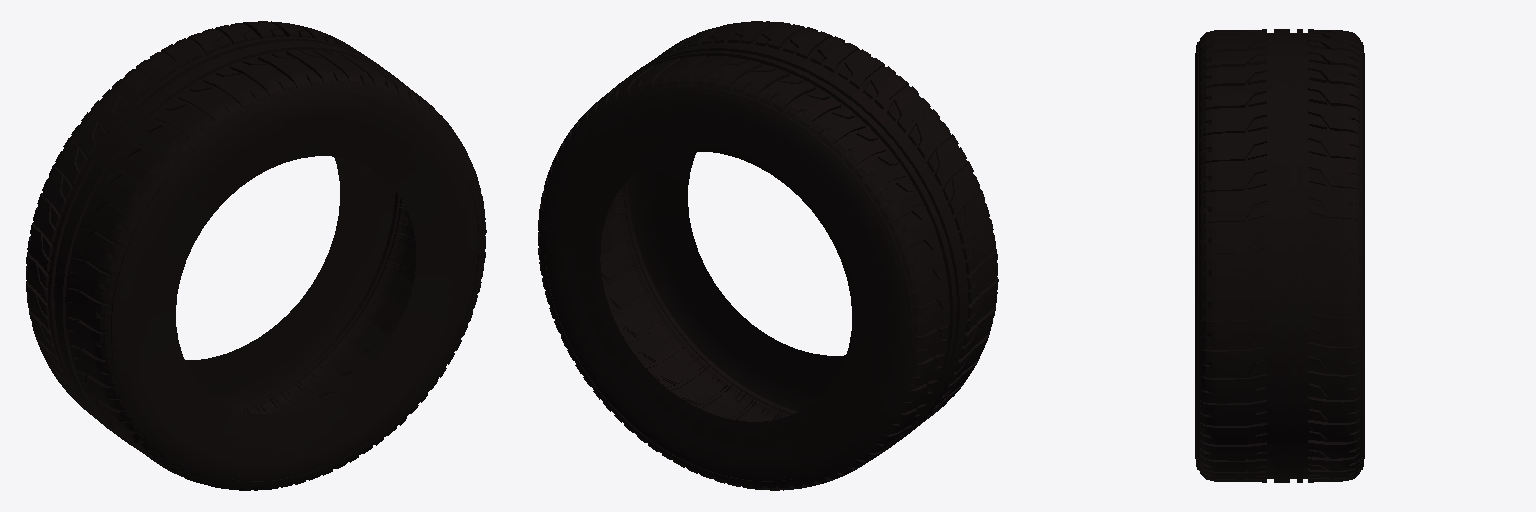
The model's file is Wheel2.obj.
3 renders of one model, left to right at view 1: azimuth 30°, elevation 25°; view 2: azimuth 150°, elevation 25°; view 3: azimuth 270°, elevation 25°, orthographic.
Visible parts, largest first — view 1: Front_Right_tire_wheels_1.002; view 2: Front_Right_tire_wheels_1.002; view 3: Front_Right_tire_wheels_1.002.
Boxes of the visible parts, x1,y1,x2,y2 form: Front_Right_tire_wheels_1.002: [26, 21, 486, 490]; Front_Right_tire_wheels_1.002: [538, 21, 998, 490]; Front_Right_tire_wheels_1.002: [1195, 29, 1364, 482].
Bounding box in the file's own units: 2.06 × 2.06 × 0.7739.